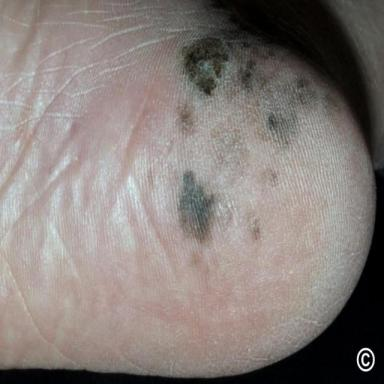Melanoma: (179, 37, 339, 149), (179, 170, 216, 245), (256, 165, 279, 187), (178, 103, 194, 133), (248, 213, 264, 242)
